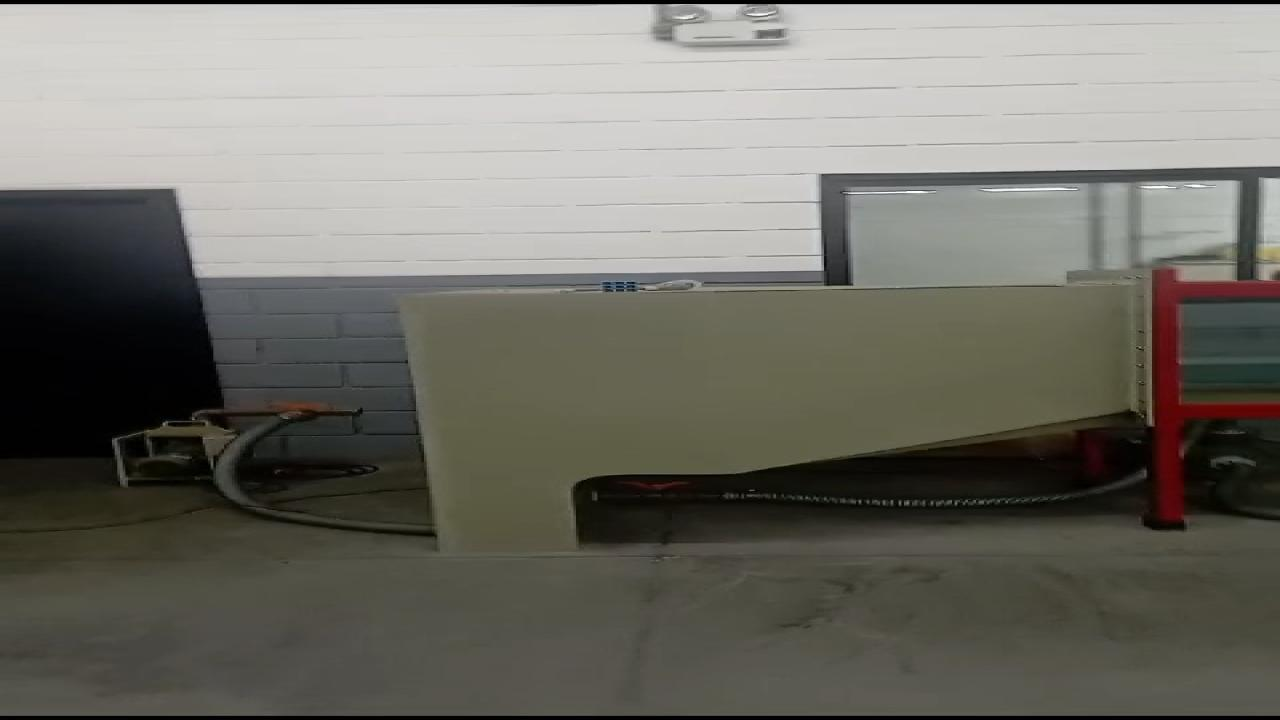Cube: (600, 280, 638, 291)
